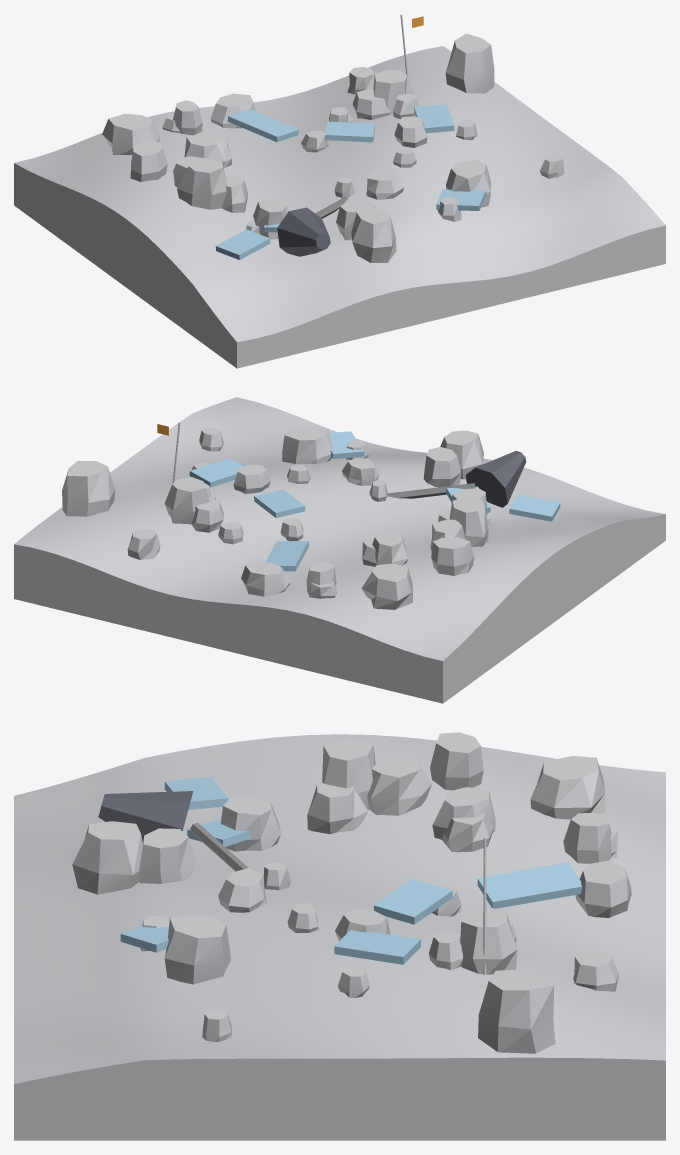
Rendered from backcountry-snowboarding-and-avalanche-safety-avalanch-ee7e979b__18949.glb.
3 renders of one model, top to bottom at view 1: azimuth 30°, elevation 25°; view 2: azimuth 150°, elevation 25°; view 3: azimuth 270°, elevation 25°, orthographic. The views are drawn at different scales.
Parts seen in each view (by area): view 1: avalanche-debris-field; view 2: avalanche-debris-field; view 3: avalanche-debris-field.
Part boxes in pixels (x1,y1,x2,y2): avalanche-debris-field: (14,14,665,368); avalanche-debris-field: (14,397,665,703); avalanche-debris-field: (14,732,665,1140).
Size of the model in its own units: 6 by 2.09 by 5.4.
